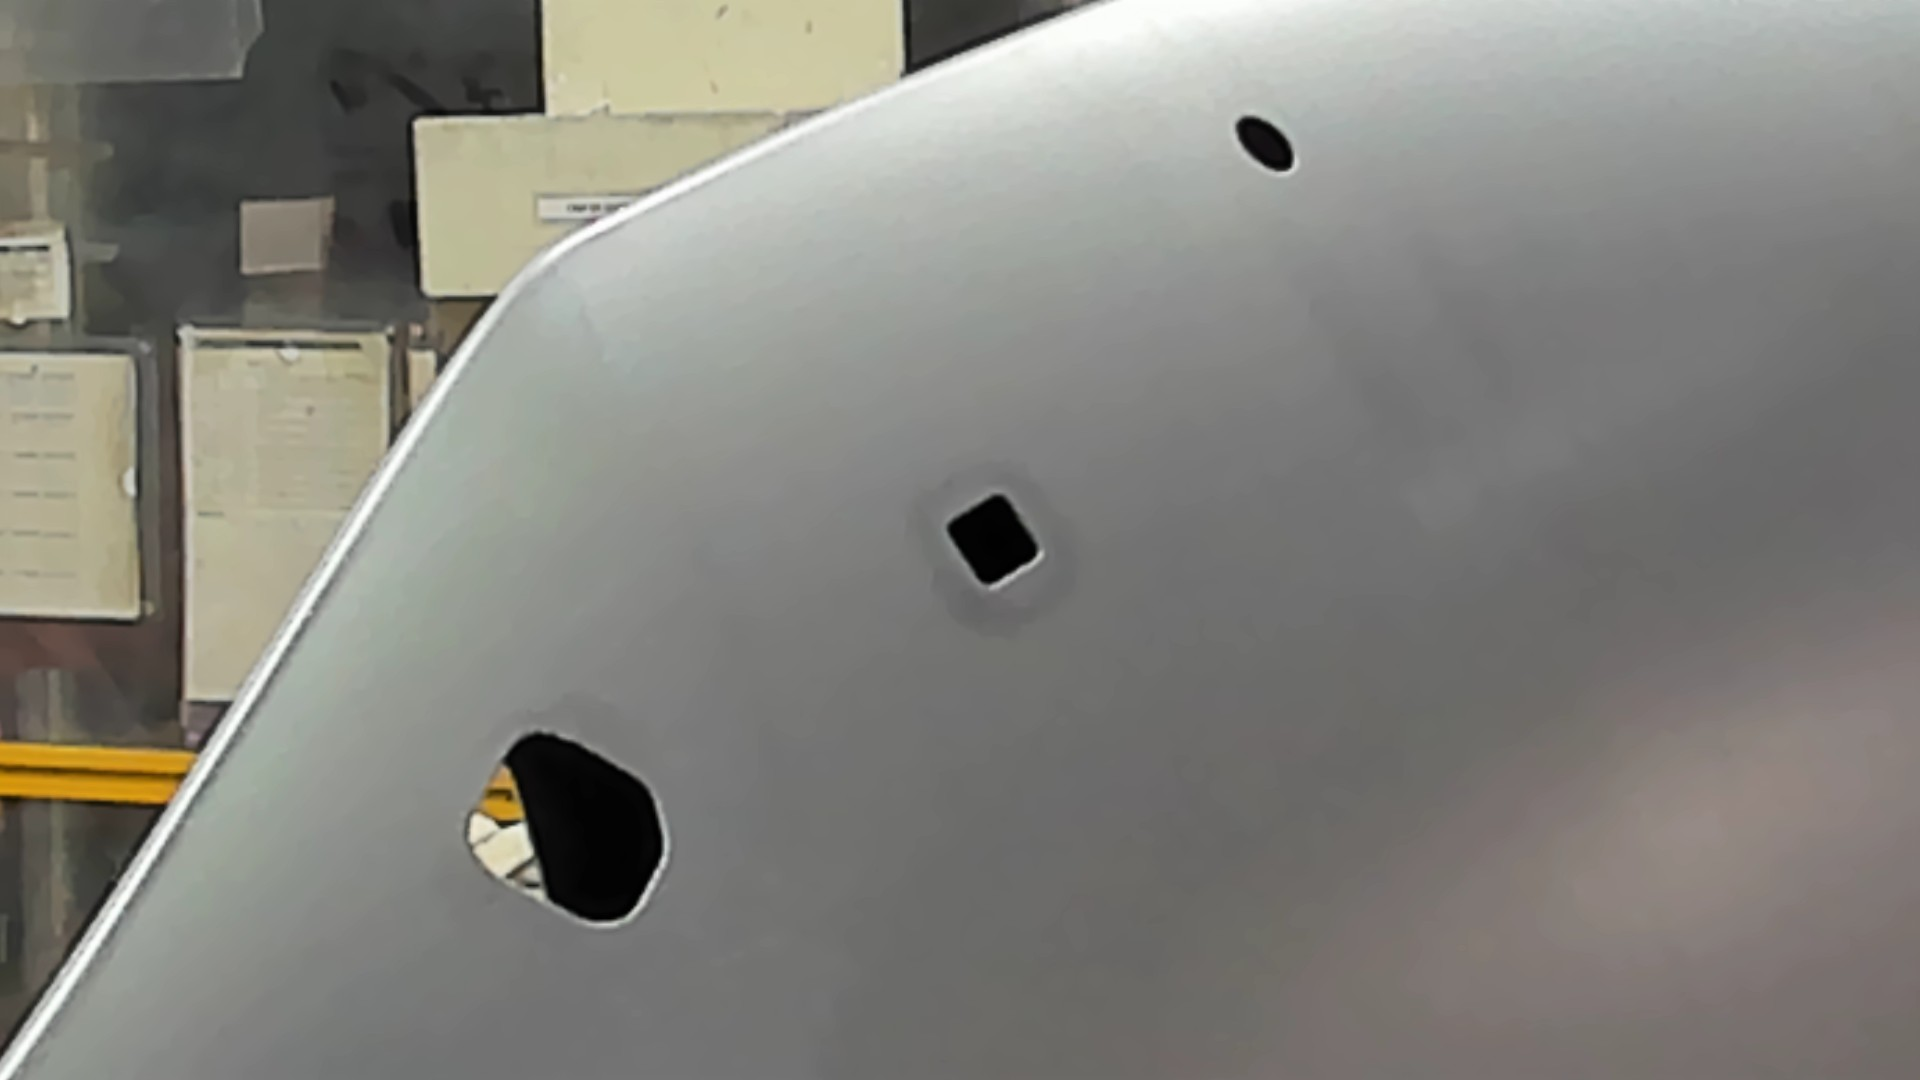chico: (1233, 109, 1300, 178)
grande: (458, 727, 678, 944)
mediano: (939, 487, 1048, 596)
